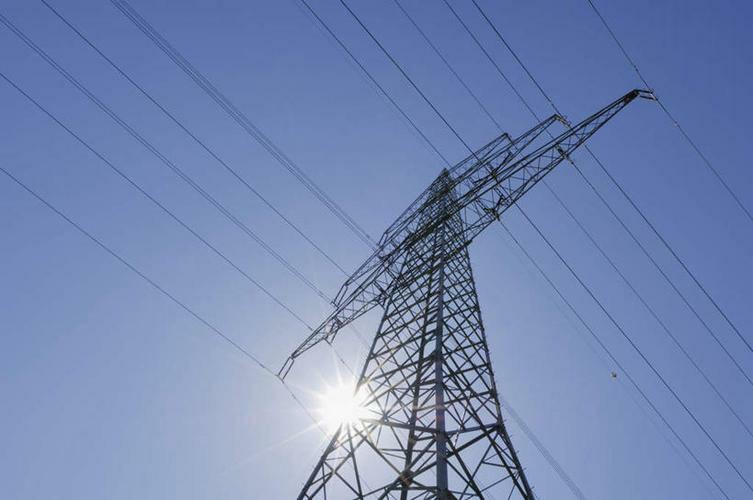power_tower: (273, 82, 658, 500)
